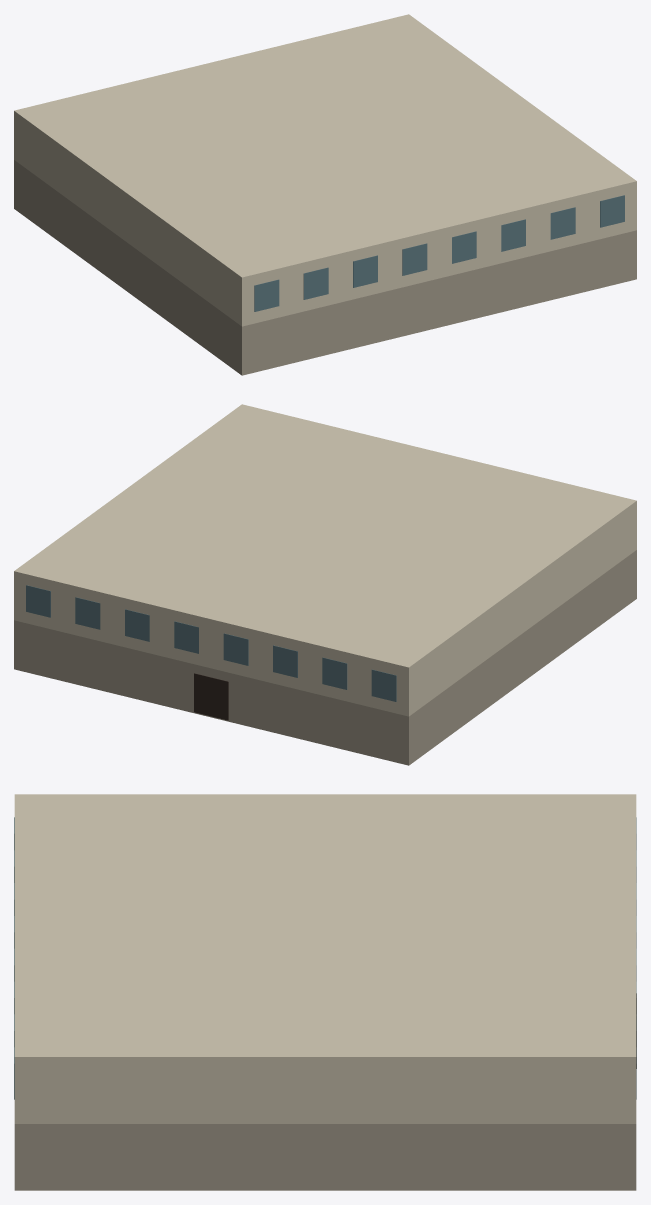
File: tw_stone_32_base_lod1.glb
3 views of the same model, one above another, from view 1: azimuth 30°, elevation 25°; view 2: azimuth 150°, elevation 25°; view 3: azimuth 270°, elevation 25° (orthographic). The views are drawn at different scales.
Visible parts, largest first — view 1: tw_stone_32_base_lod1; view 2: tw_stone_32_base_lod1; view 3: tw_stone_32_base_lod1.
Part boxes in pixels (bbox=[...]): tw_stone_32_base_lod1: bbox=[14, 14, 636, 375]; tw_stone_32_base_lod1: bbox=[14, 404, 636, 765]; tw_stone_32_base_lod1: bbox=[14, 794, 636, 1190].
Bounding box in the file's own units: 32 × 7.6 × 32.07.
Materials: 2 (2 with a texture image).
